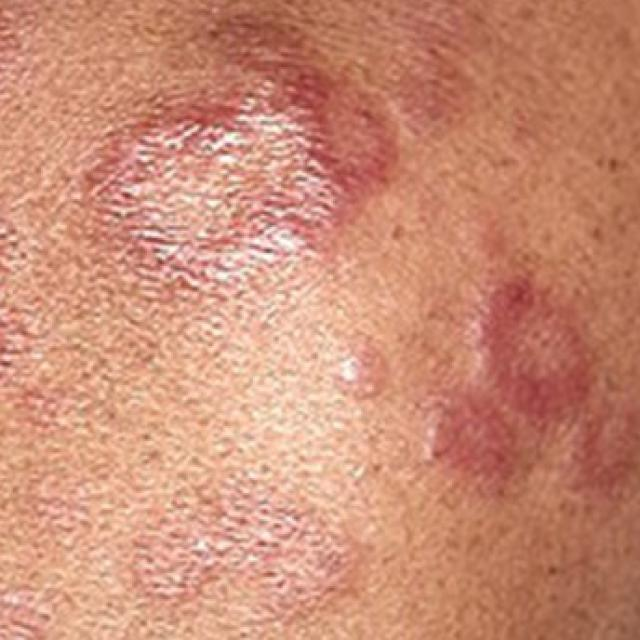Leprosy: (62, 18, 474, 288), (328, 276, 640, 490), (114, 454, 370, 630), (0, 188, 54, 410)
